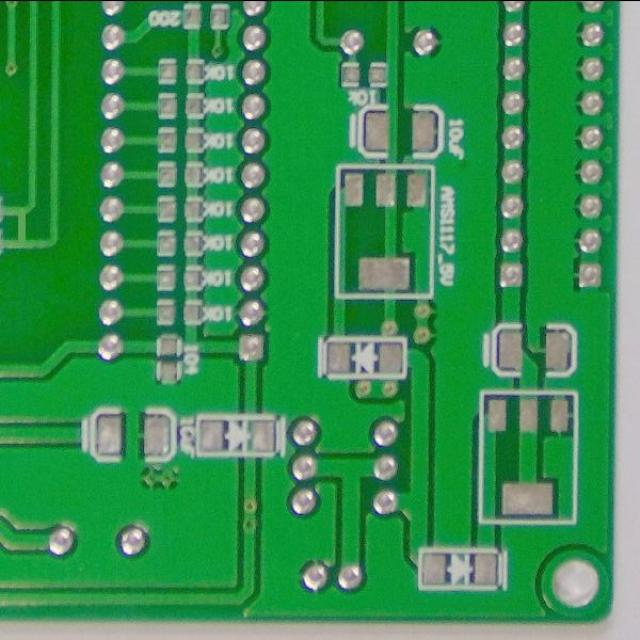short: (9, 202, 36, 258)
